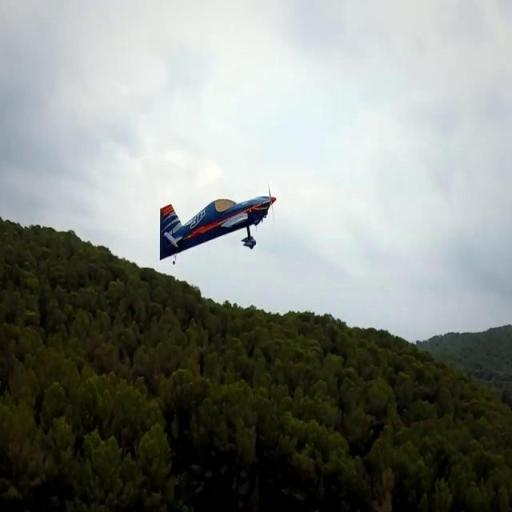uav: (159, 187, 277, 260)
